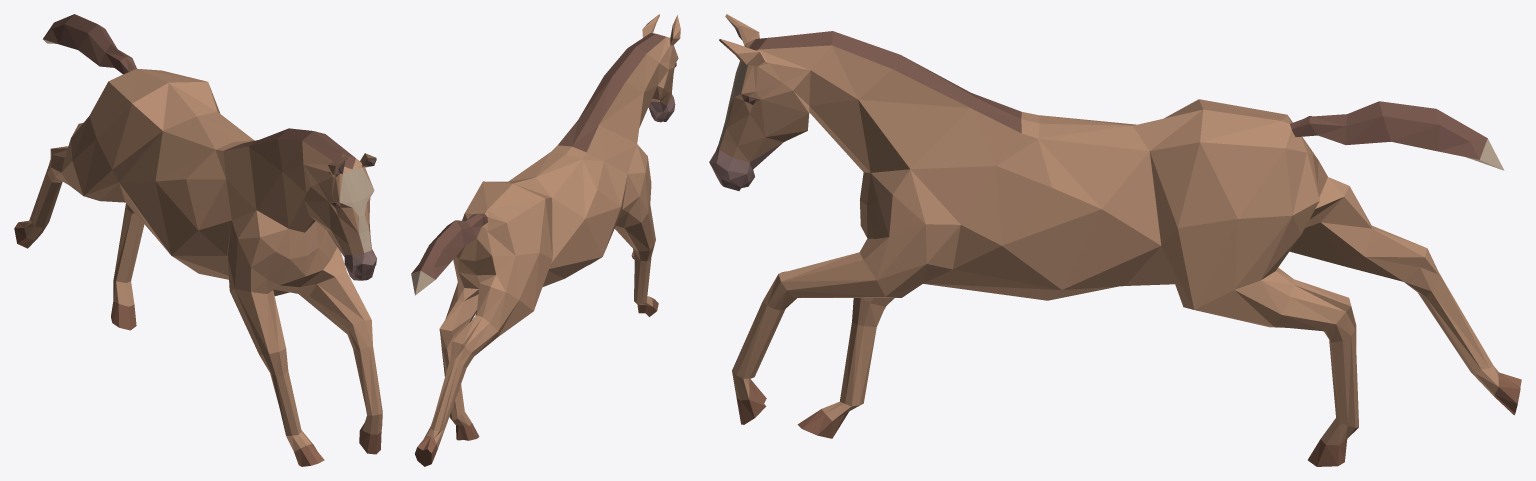
File: Horse.glb
3 views of the same model, side by side, from view 1: azimuth 30°, elevation 25°; view 2: azimuth 150°, elevation 25°; view 3: azimuth 270°, elevation 25° (orthographic). The views are drawn at different scales.
Parts seen in each view (by area): view 1: mesh_0; view 2: mesh_0; view 3: mesh_0.
Part boxes in pixels (left/top/right/bottom): mesh_0: left=14, top=14, right=382, bottom=466; mesh_0: left=411, top=14, right=680, bottom=466; mesh_0: left=709, top=14, right=1521, bottom=466.
Bounding box in the file's own units: 59.73 × 176 × 297.
